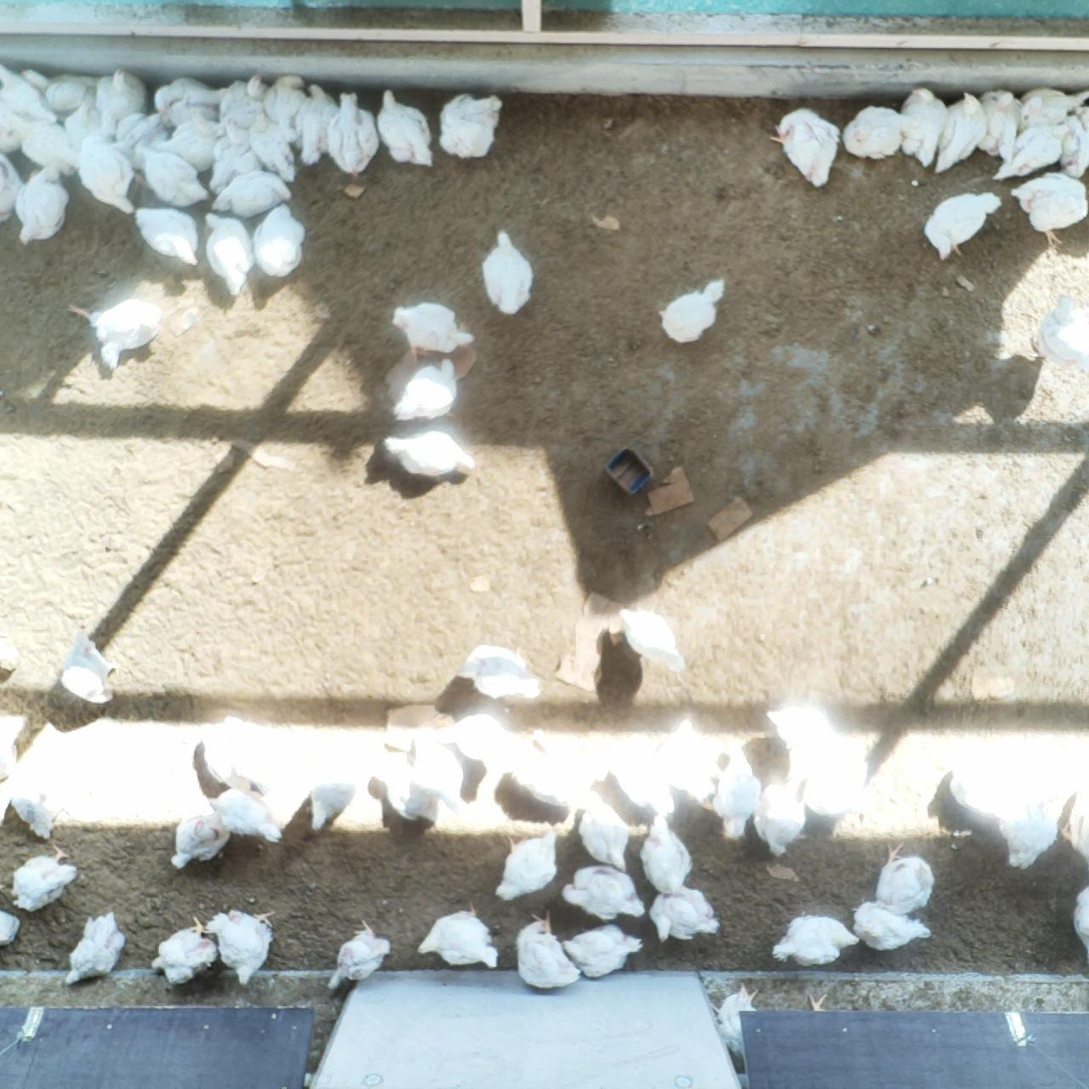chicken: (64, 300, 164, 371), (1008, 170, 1089, 253), (204, 908, 277, 991), (202, 717, 278, 796), (925, 191, 1003, 264), (996, 781, 1058, 871), (417, 903, 499, 970), (803, 748, 880, 816), (518, 910, 584, 989), (605, 749, 675, 823), (665, 716, 718, 812), (774, 110, 839, 188), (325, 922, 394, 995), (135, 142, 210, 208), (495, 825, 559, 902), (561, 864, 647, 921), (617, 606, 688, 675), (150, 915, 218, 987), (479, 228, 534, 317), (460, 643, 543, 700), (774, 912, 860, 967), (562, 922, 647, 977), (766, 707, 840, 770), (65, 912, 127, 987), (410, 736, 468, 816), (77, 136, 135, 215), (713, 750, 764, 839), (379, 87, 435, 168), (13, 845, 81, 911), (880, 838, 936, 918), (384, 431, 477, 479), (376, 755, 440, 824), (656, 278, 725, 342), (438, 91, 502, 160), (641, 816, 694, 899), (938, 88, 989, 174), (207, 790, 285, 845), (392, 356, 460, 419), (329, 89, 378, 176), (949, 760, 1021, 819), (61, 632, 119, 705), (708, 985, 764, 1060), (11, 776, 74, 842), (650, 888, 722, 945), (854, 900, 936, 950), (205, 213, 254, 296), (134, 207, 200, 268), (755, 778, 807, 855), (19, 163, 67, 246), (580, 790, 629, 871), (902, 85, 949, 168), (976, 83, 1024, 164), (172, 812, 234, 874), (999, 123, 1068, 178), (252, 205, 304, 277), (445, 713, 522, 759), (844, 104, 907, 160), (1, 68, 63, 123), (16, 111, 77, 166), (297, 82, 336, 165), (99, 67, 145, 137), (248, 119, 296, 185), (157, 74, 225, 120), (172, 114, 228, 169), (309, 769, 356, 832), (211, 134, 261, 193), (222, 73, 270, 130), (1020, 86, 1083, 127), (264, 69, 306, 125), (119, 111, 175, 152), (44, 65, 93, 110), (1063, 787, 1089, 864), (1058, 125, 1089, 180), (0, 104, 32, 153), (65, 100, 103, 139), (0, 149, 18, 225), (1074, 884, 1089, 961), (0, 620, 21, 673), (0, 909, 24, 946), (804, 991, 835, 1012)
